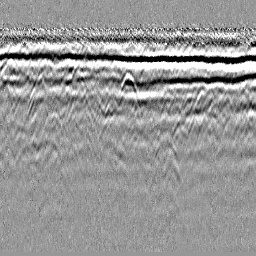cavity: (118, 70, 139, 104)
